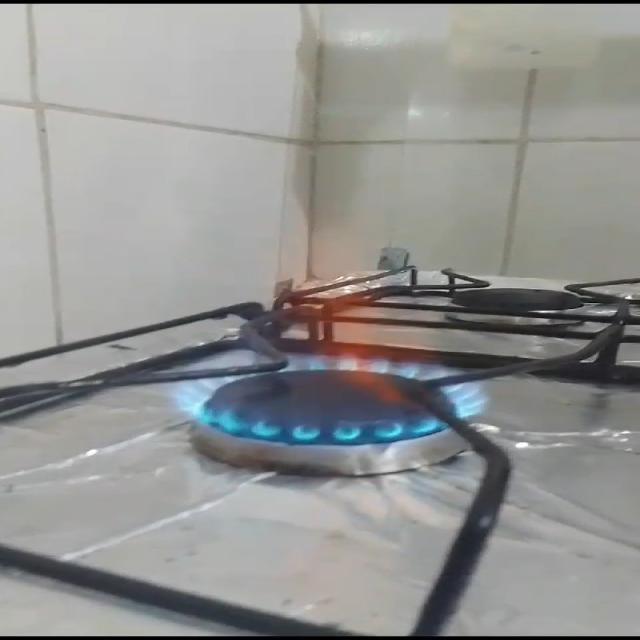fogo-ypXI: (160, 228, 489, 446)
